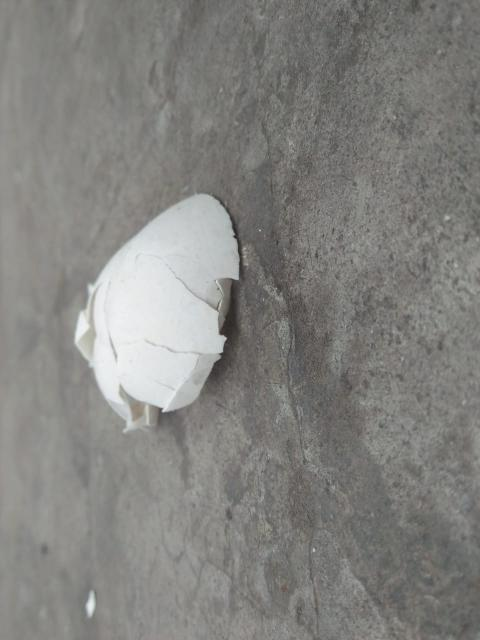Roto: (73, 192, 241, 433)
